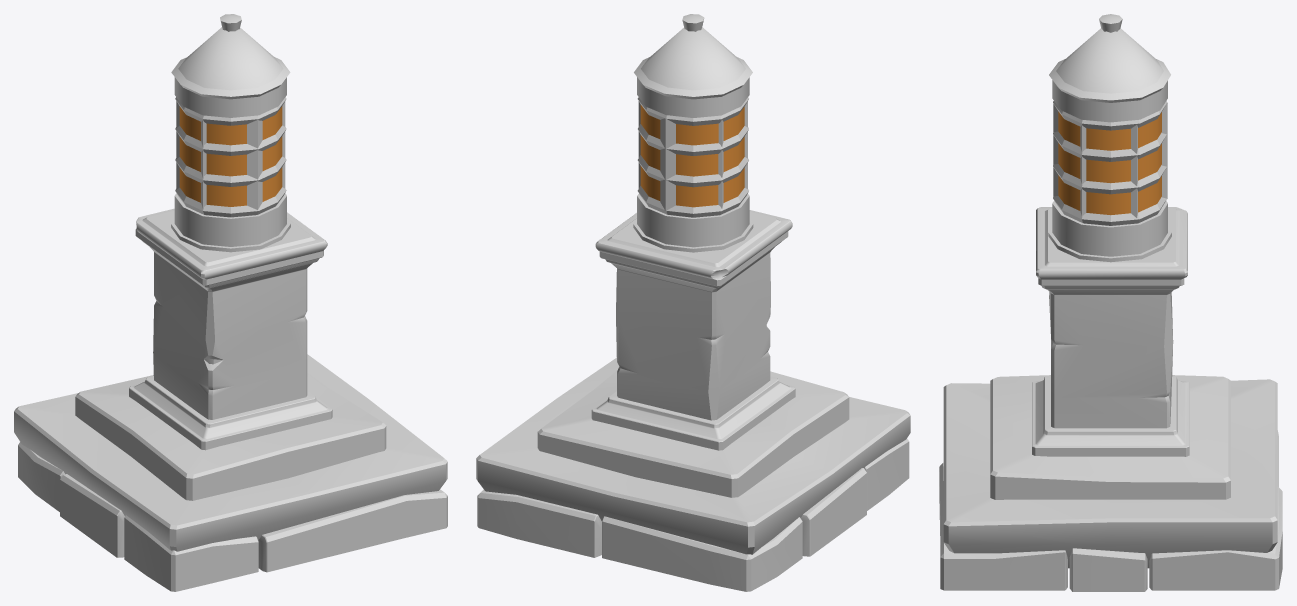
Rendered from Lantern.fbx.
3 views of the same model, side by side, from view 1: azimuth 30°, elevation 25°; view 2: azimuth 150°, elevation 25°; view 3: azimuth 270°, elevation 25° (orthographic). The views are drawn at different scales.
Parts seen in each view (by area): view 1: mat.003; view 2: mat.003; view 3: mat.003.
Part boxes in pixels (x1,y1,x2,y2): mat.003: [14, 14, 447, 591]; mat.003: [476, 14, 910, 591]; mat.003: [939, 14, 1282, 591].
Bounding box in the file's own units: 1.78 × 2.95 × 1.8.
